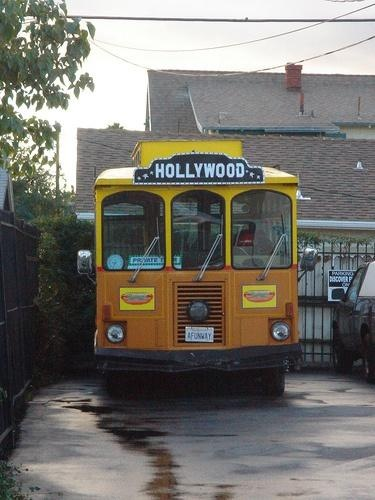bus: (93, 139, 303, 402)
car: (331, 260, 375, 381)
